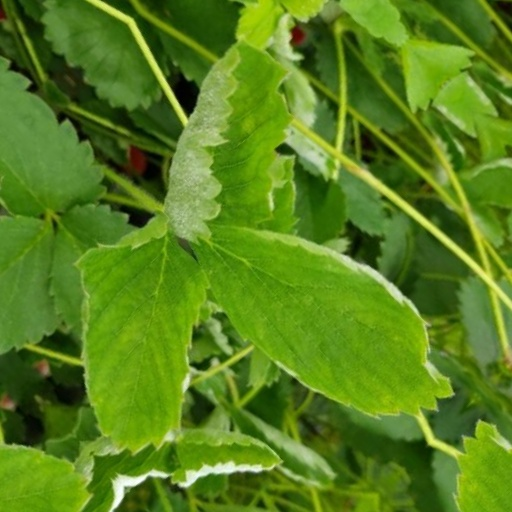Powdery Mildew Leaf: (174, 15, 326, 315), (292, 184, 492, 379), (99, 271, 300, 422), (379, 88, 478, 186), (350, 37, 391, 173), (448, 159, 511, 247)
